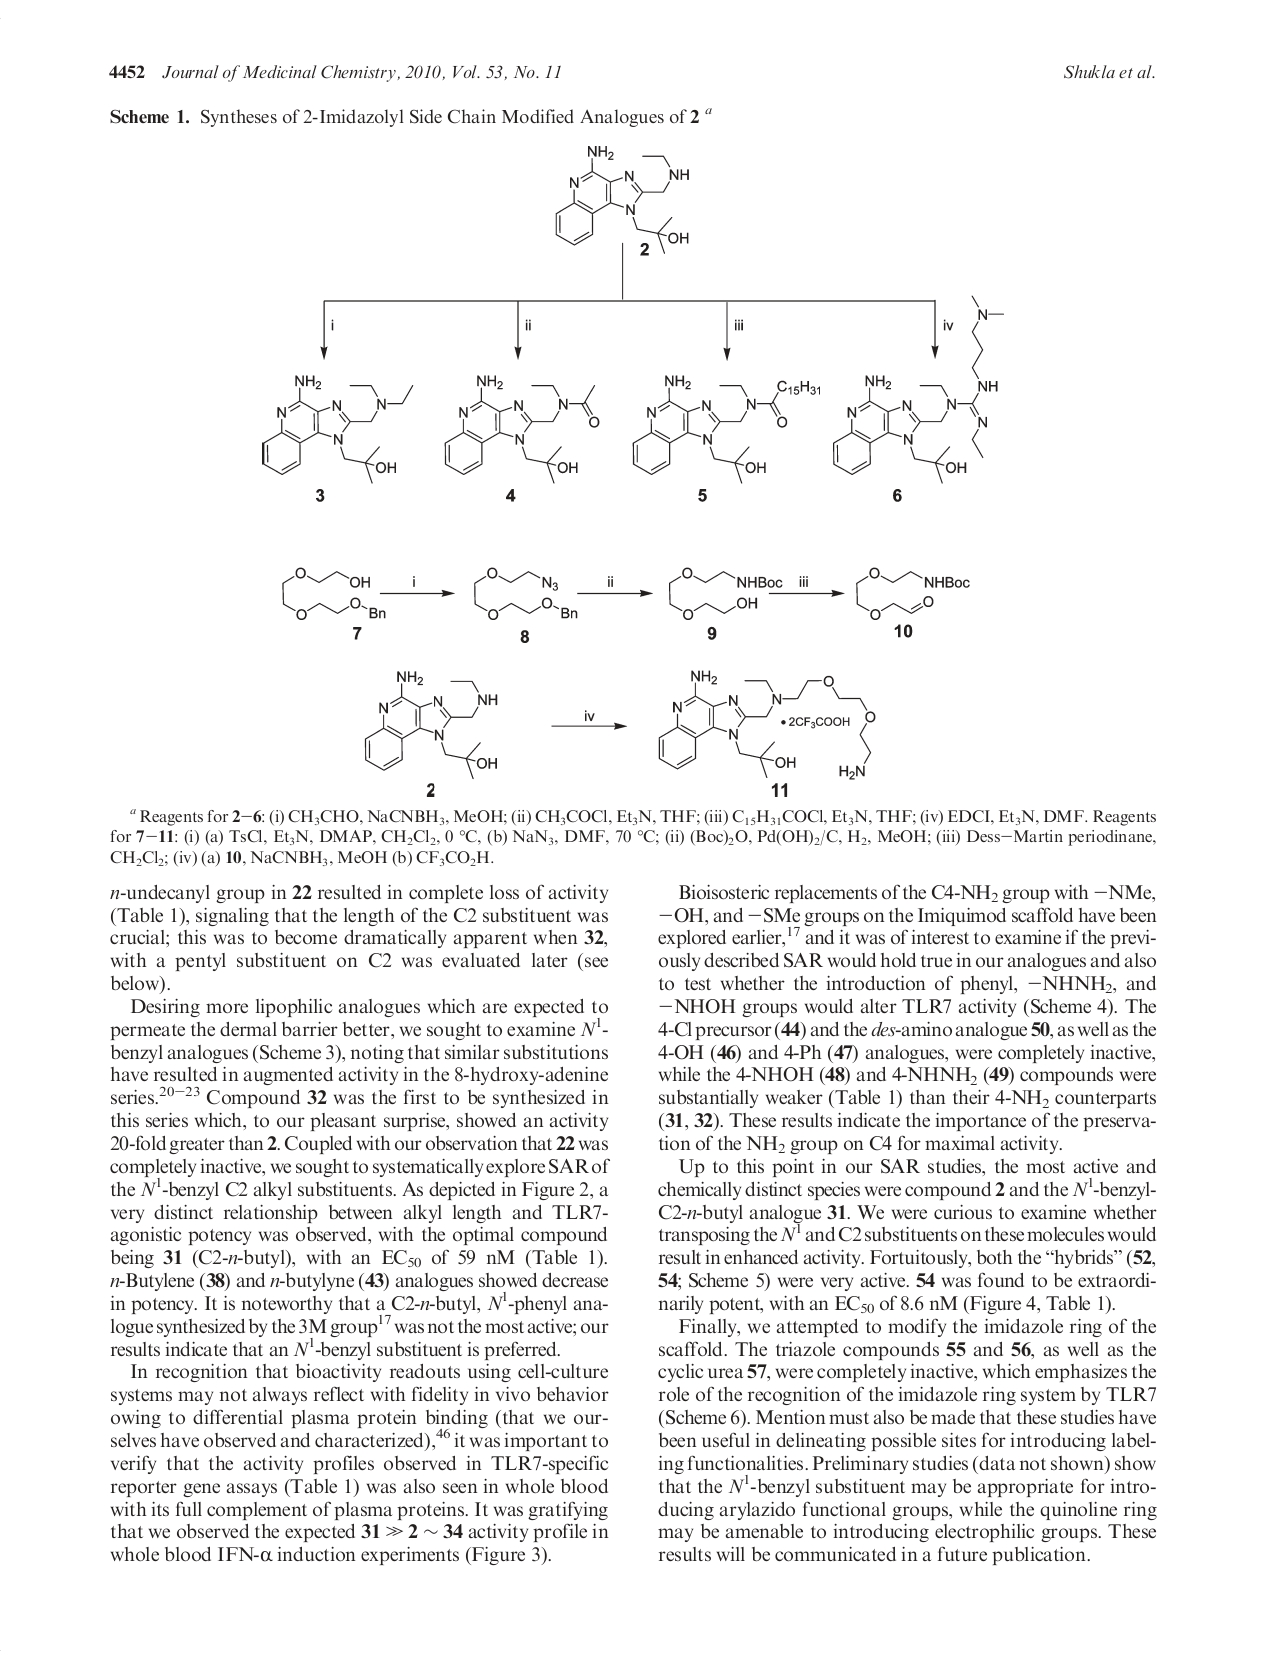exist_molecular: (832, 294, 1005, 485), (656, 669, 878, 779), (630, 376, 821, 484), (259, 371, 414, 485), (443, 374, 602, 484), (552, 144, 692, 255), (364, 669, 504, 779), (854, 565, 973, 620), (471, 565, 580, 624), (281, 563, 386, 621), (668, 567, 782, 620)
